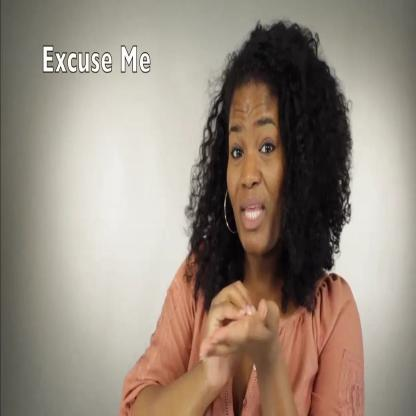ExcuseMe: (126, 24, 363, 416)
